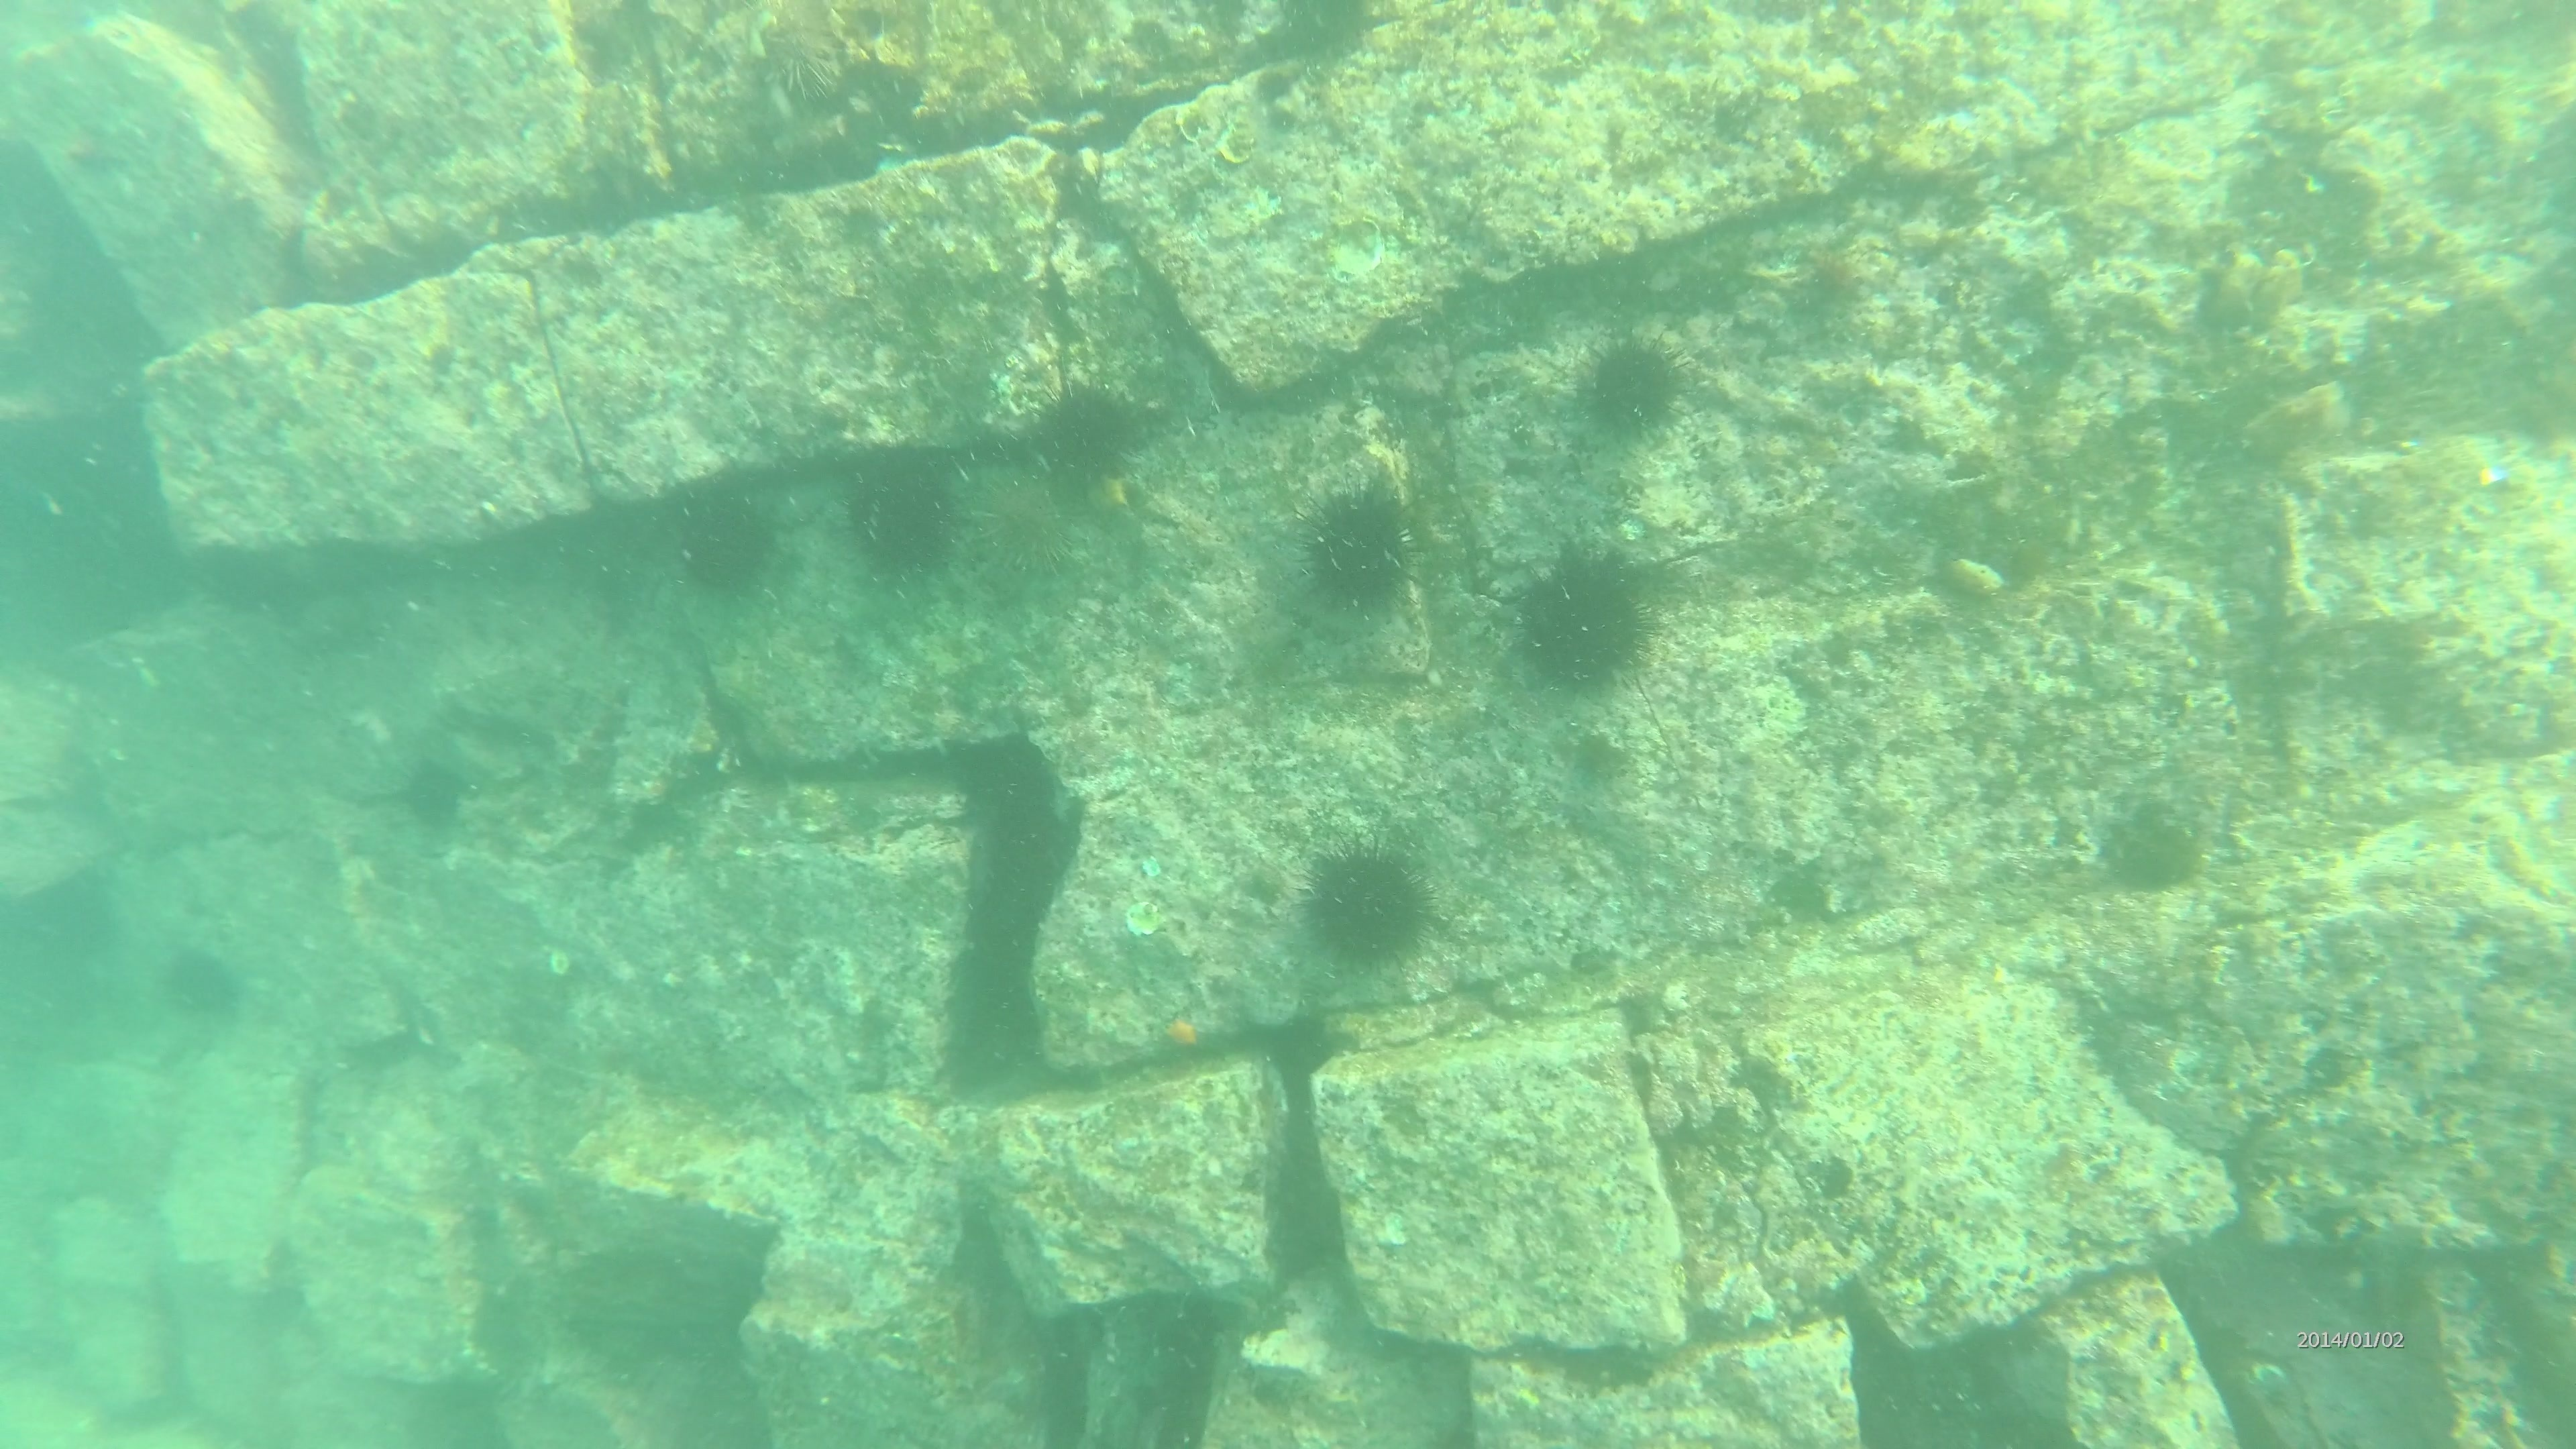echinus: (1504, 540, 1665, 704), (1293, 835, 1444, 977), (1290, 474, 1424, 621), (1024, 373, 1155, 499), (959, 464, 1086, 591), (840, 455, 966, 582), (1568, 329, 1693, 449), (669, 488, 787, 603), (2093, 794, 2210, 899), (1253, 2, 1391, 73), (154, 938, 251, 1030), (391, 750, 478, 837)
starfish: (1152, 1005, 1214, 1058)
